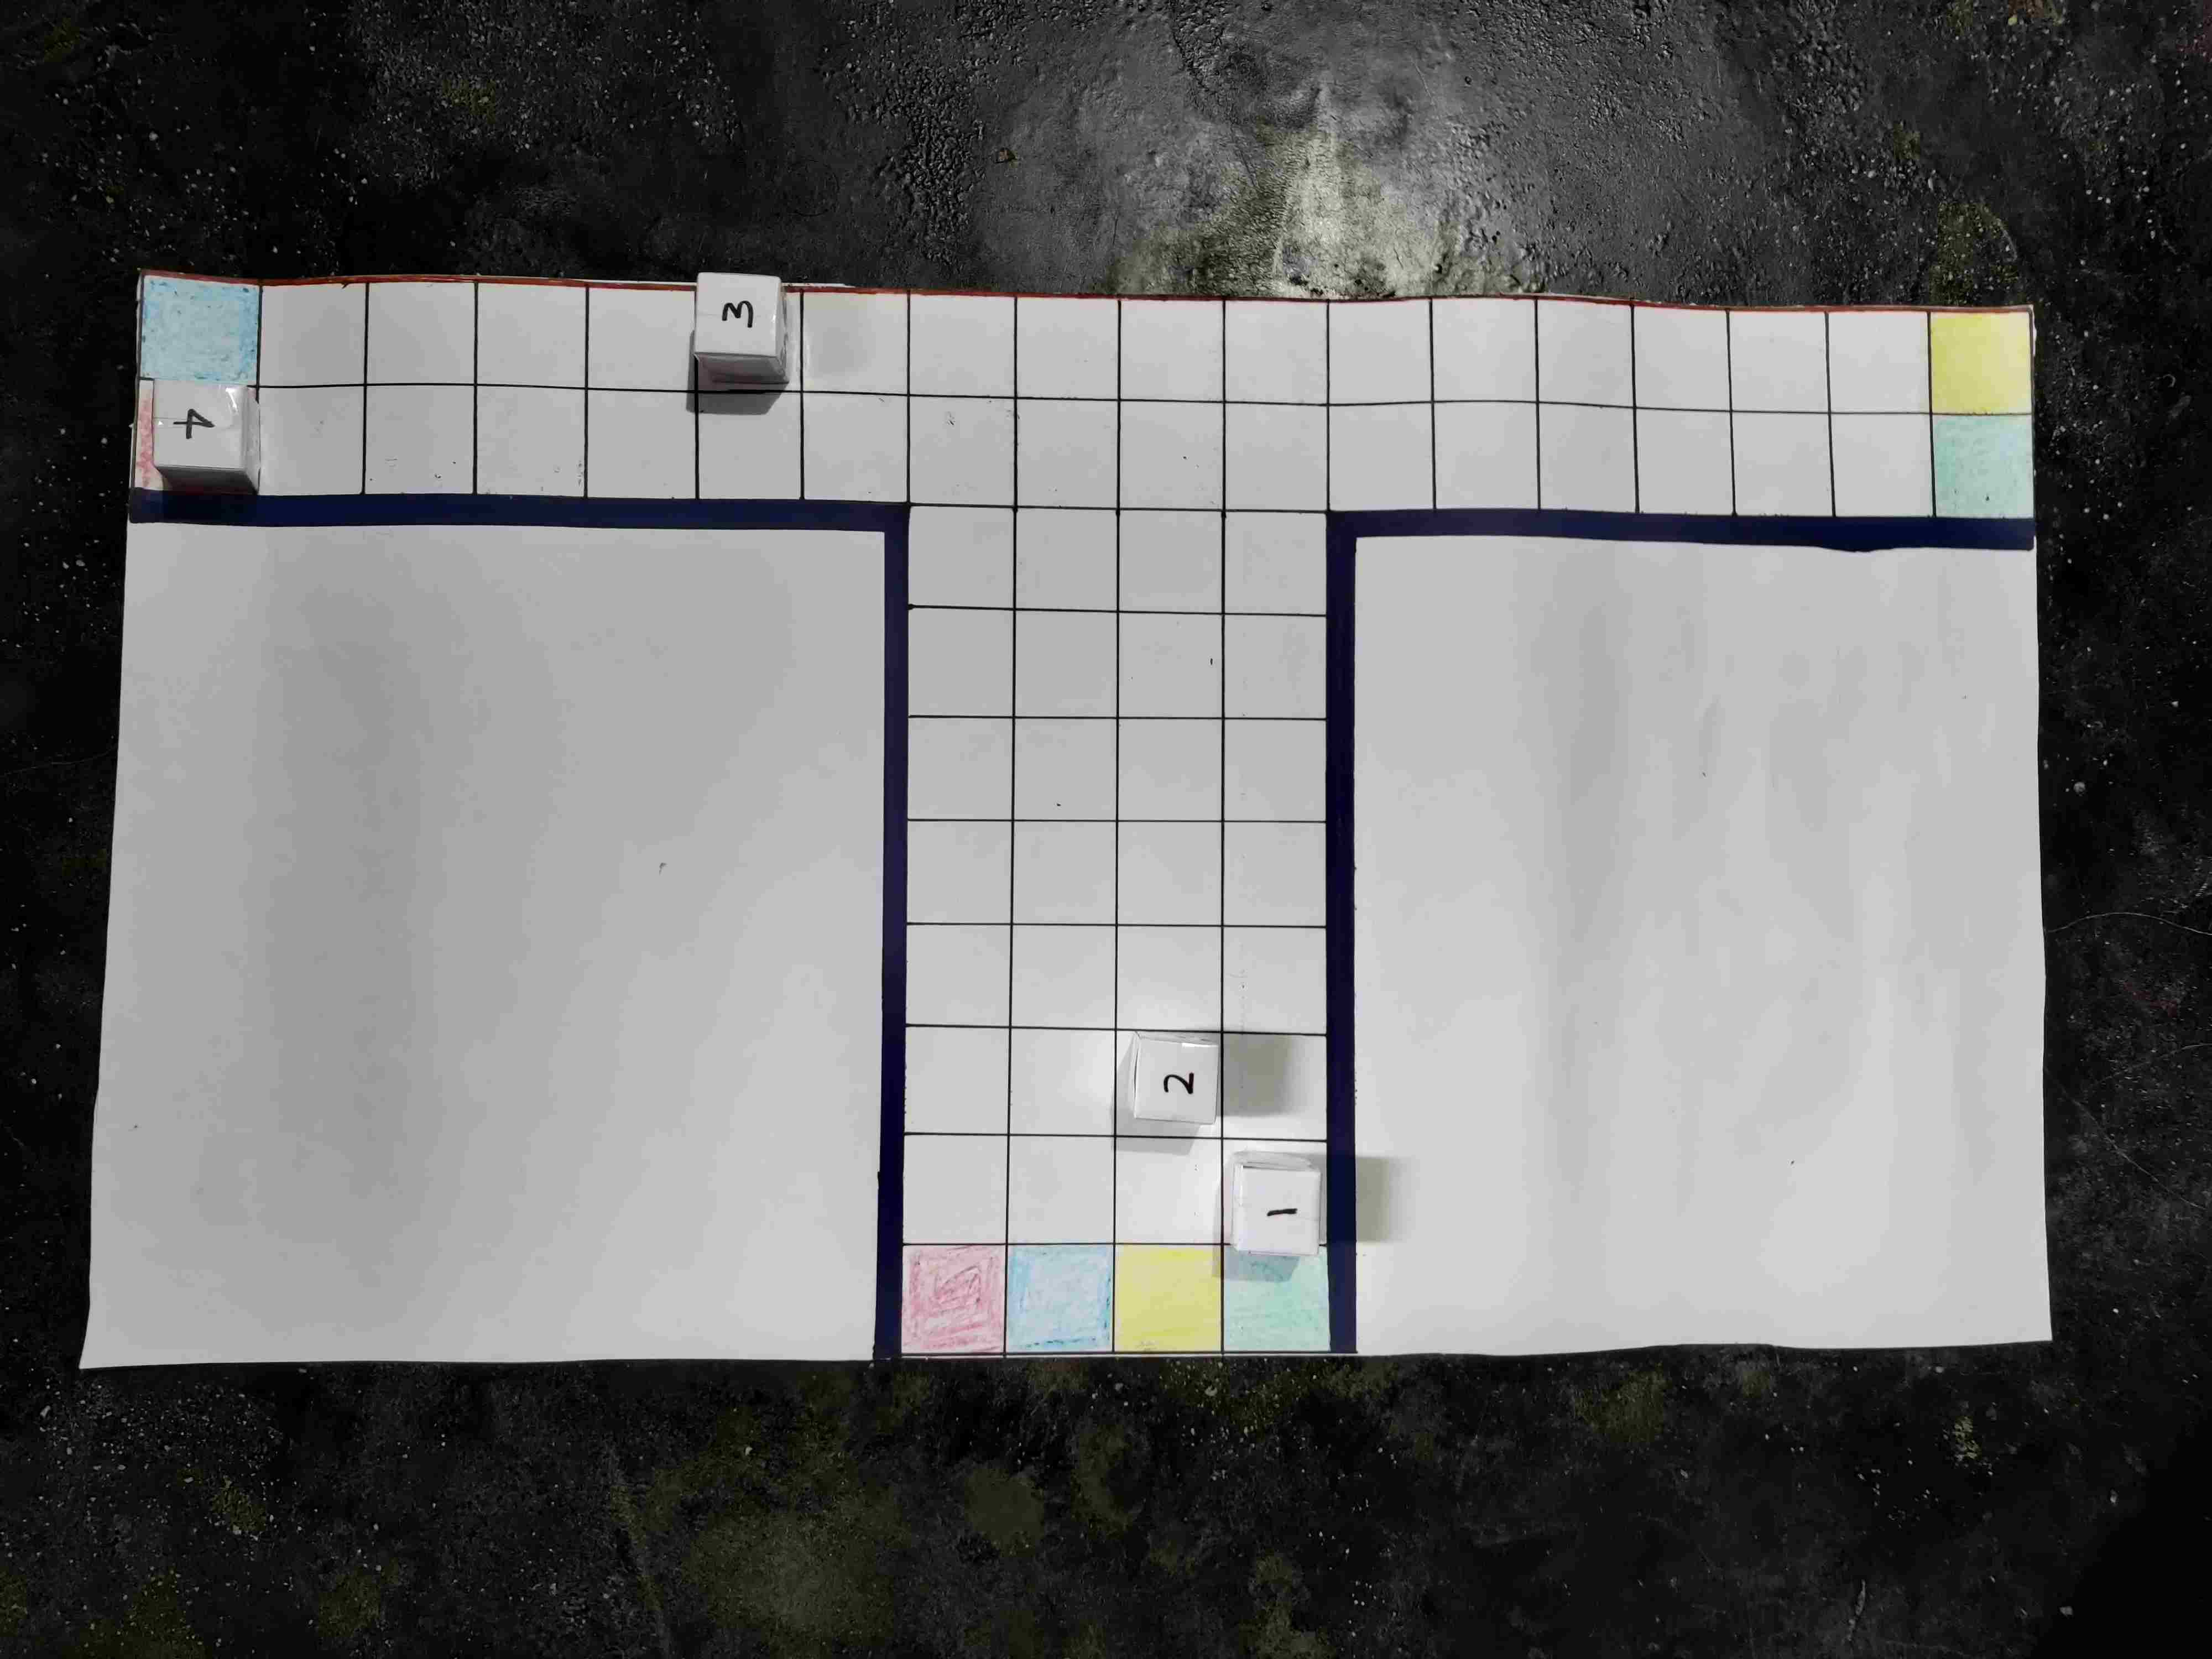arena: (157, 321, 2118, 1446)
bot: (1226, 1351, 1322, 1434), (914, 885, 1000, 969), (1139, 444, 1219, 532), (1022, 582, 1101, 662)
